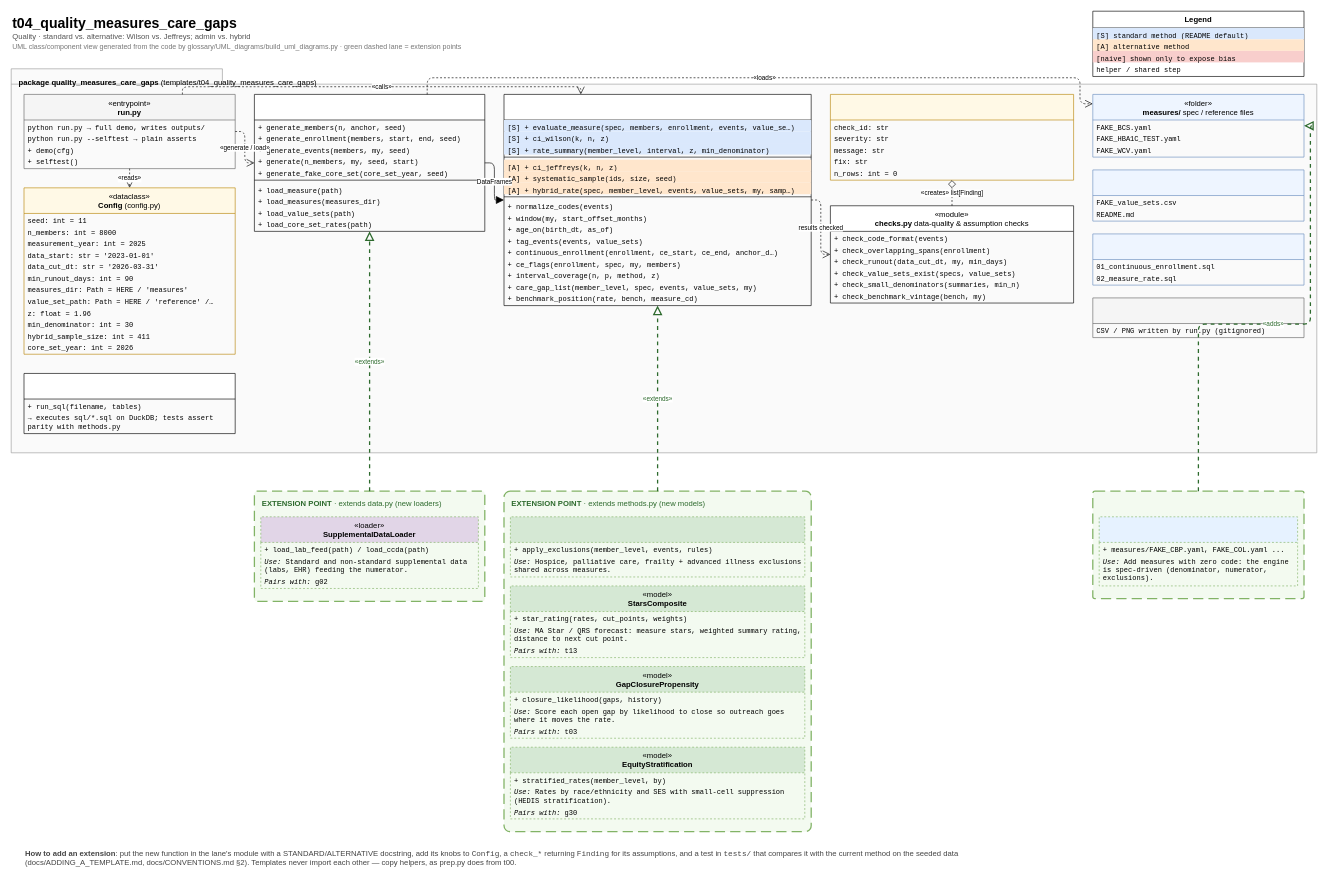
This 1330x888 diagram has some shape labels left out. The shapes that lost their labels are listed below. From the top down, each one's box as (x1, y1, x2, y2) in pixels, then its label:
(830, 94, 1074, 180): «dataclass» Finding
(254, 94, 485, 231): «module» data.py seeded synthetic + public loaders
(503, 94, 811, 306): «module» methods.py the analysis
(1092, 169, 1304, 221): «folder» reference/ spec / reference files
(1092, 233, 1304, 285): «folder» sql/ SQL twin (DuckDB)
(1092, 297, 1304, 338): «artifact» outputs/
(23, 373, 235, 434): «module» sqltwin.py
(510, 516, 805, 577): «model» ExclusionEngine
(1092, 490, 1304, 599): EXTENSION POINT · new spec files (no code)
(1099, 516, 1298, 586): «spec» NewMeasureSpecs
